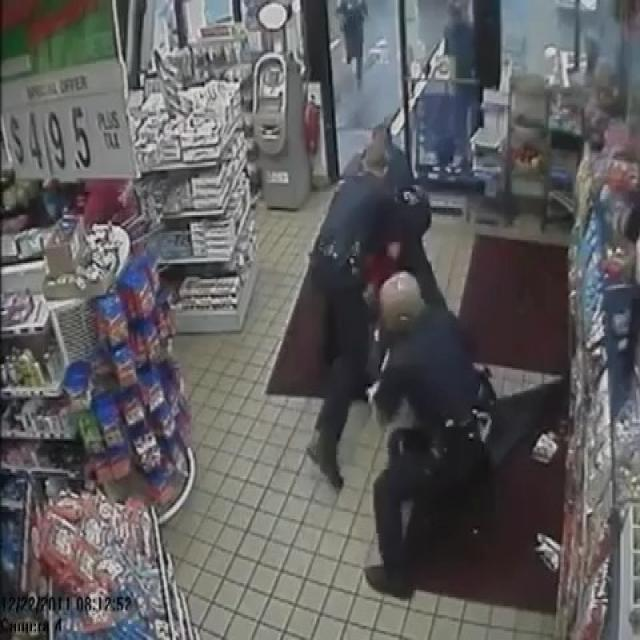fight: (304, 118, 502, 508)
